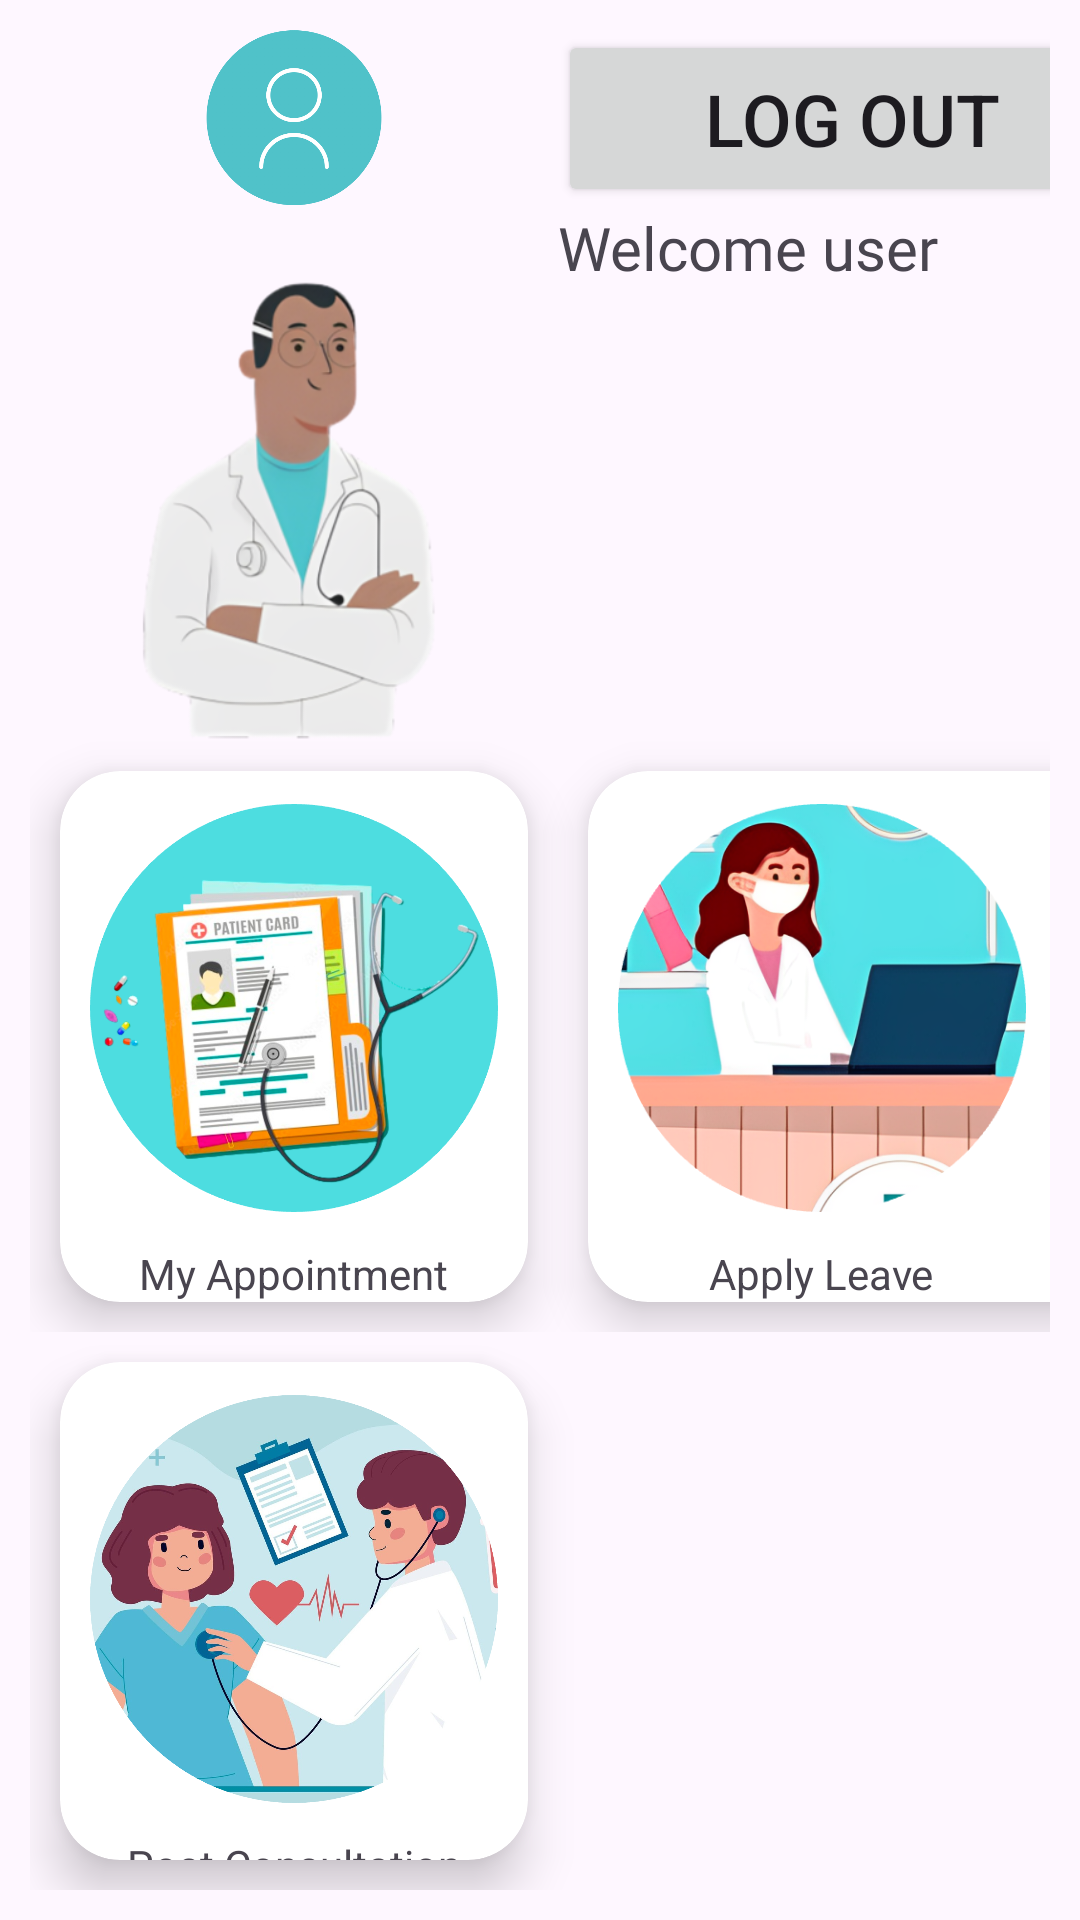

Locate icon controls on the screen. Image size 1080px×1920px, boxes as Rect(x1, y1, x2, y2).
profile: Rect(206, 30, 382, 205)
